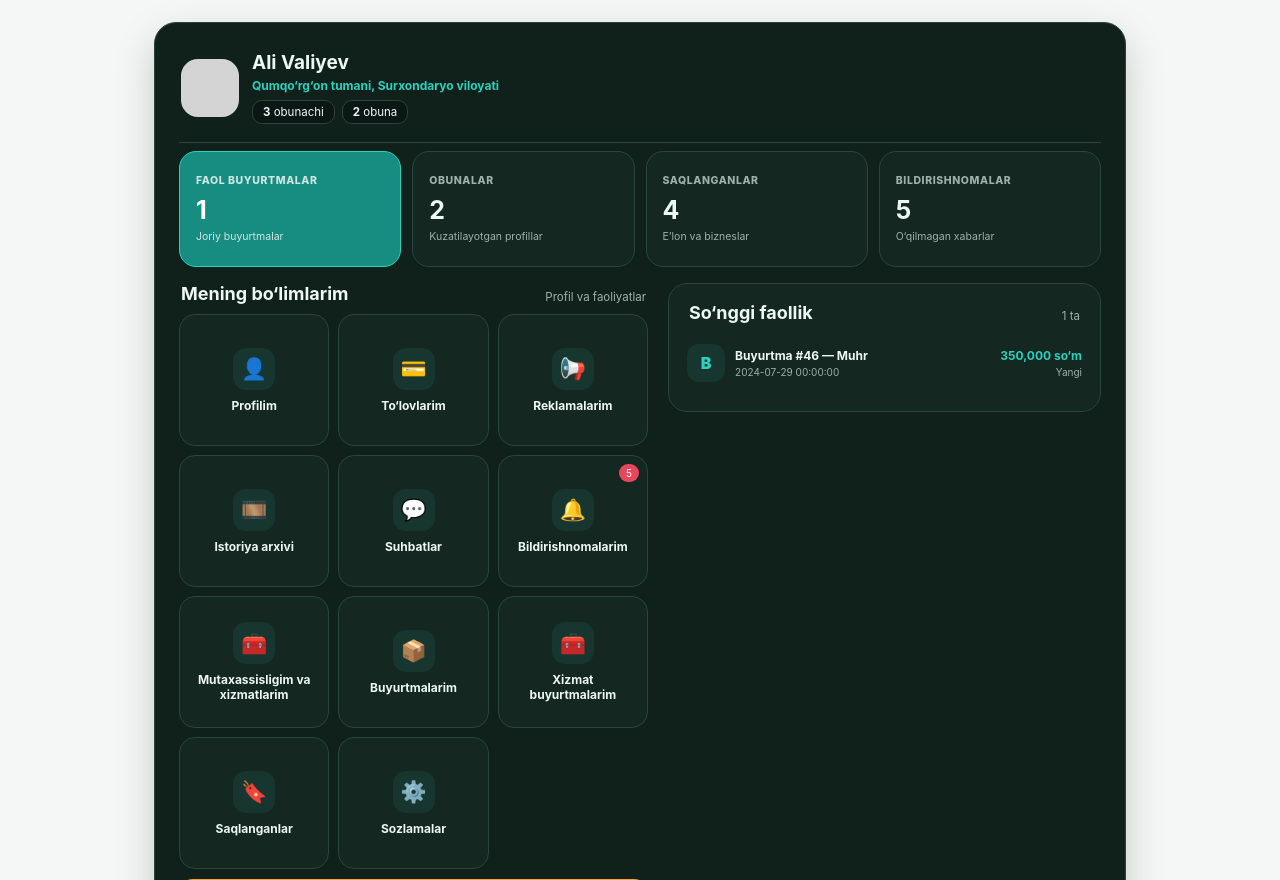
Test: v1656 user cabinet and profile parity › normalizes the username and saves only changed profile fields
The image size is (1280, 880).
Click the button named "Profilim Ism, telefon, yashash tumani": (254, 380) [179, 314, 329, 446]
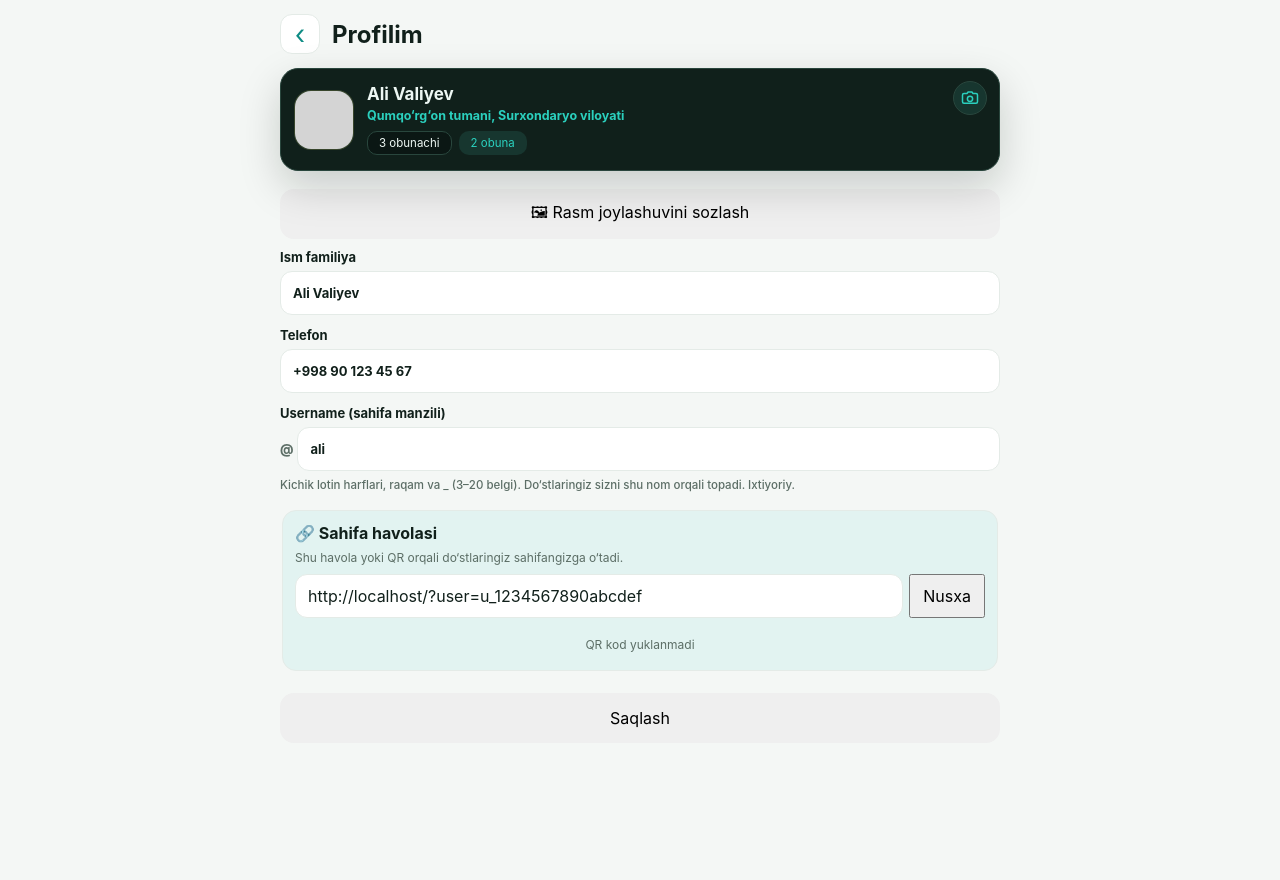
Replace the text in the field labelled "Username (sahifa manzili)" with "@Ali-Test_2": (649, 449) [298, 427, 1000, 471]
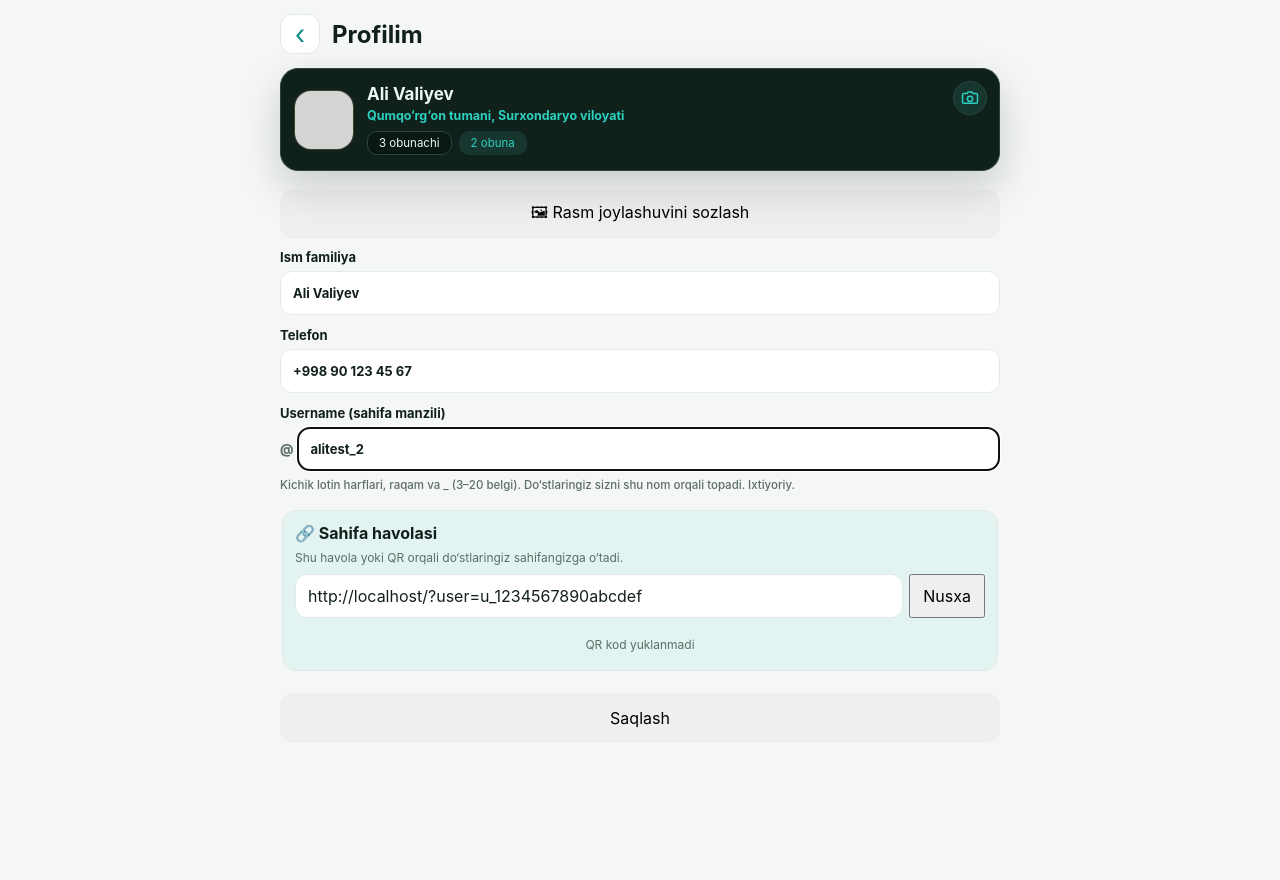
Now the field labelled "Username (sahifa manzili)" holds "alitest_2", box [298, 427, 1000, 471]
Click the button "Saqlash": (640, 718) [280, 693, 1000, 743]
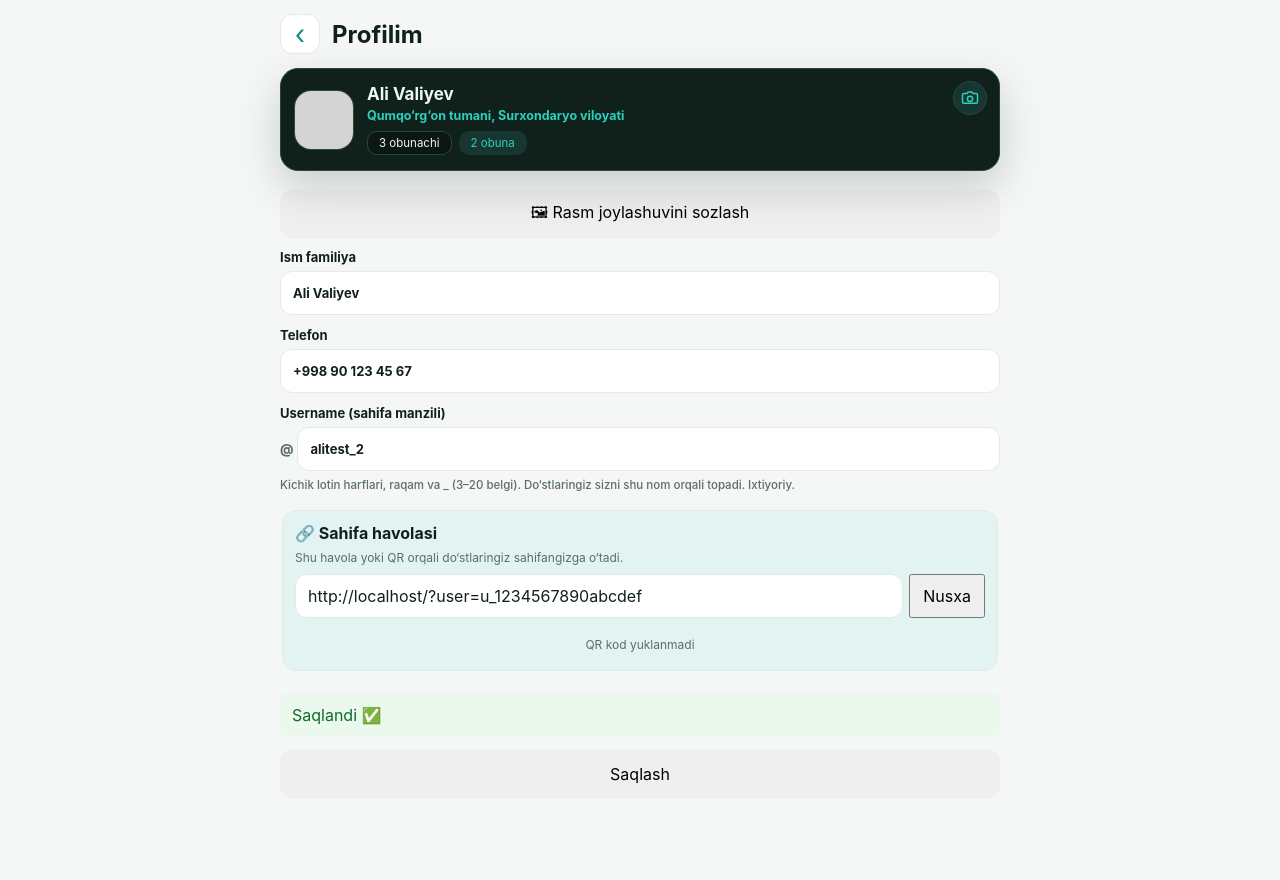
Now the text "Saqlandi ✅" is shown, box [280, 693, 1000, 737]
